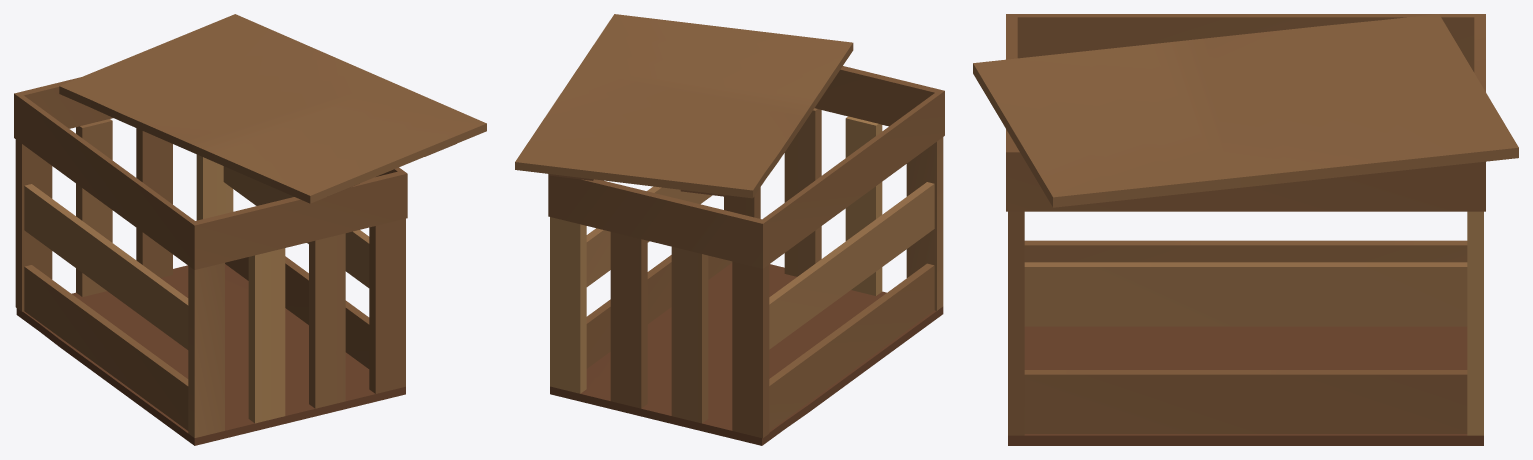
Rendered from Small Light Crate Open Lid.fbx.
The picture shows the model from 3 angles, left to right: view 1: azimuth 30°, elevation 25°; view 2: azimuth 150°, elevation 25°; view 3: azimuth 270°, elevation 25°; orthographic projection. The views are drawn at different scales.
Parts seen in each view (by area): view 1: Small Light Crate Open Lid; view 2: Small Light Crate Open Lid; view 3: Small Light Crate Open Lid.
Boxes of the visible parts, bbox=[...] form: Small Light Crate Open Lid: bbox=[14, 14, 486, 445]; Small Light Crate Open Lid: bbox=[515, 14, 944, 445]; Small Light Crate Open Lid: bbox=[973, 14, 1518, 445].
Bounding box in the file's own units: 146 × 232 × 202.
Materials: 1 (1 with a texture image).
